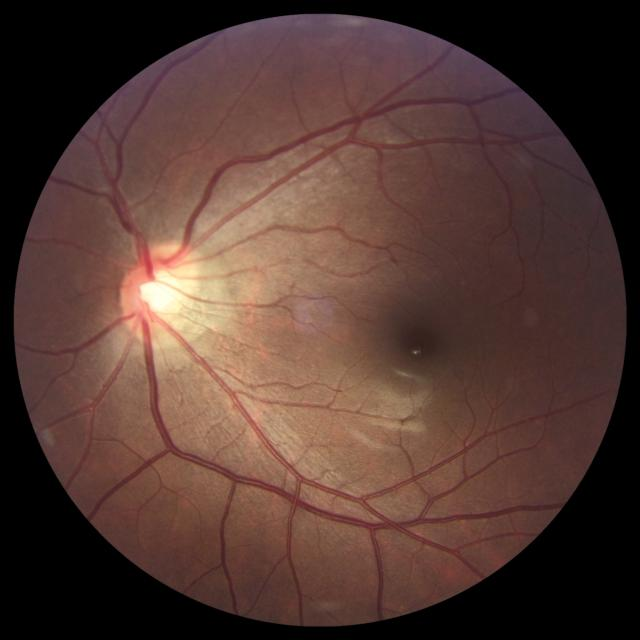OC: (136, 269, 182, 315)
OD: (119, 243, 197, 334)
